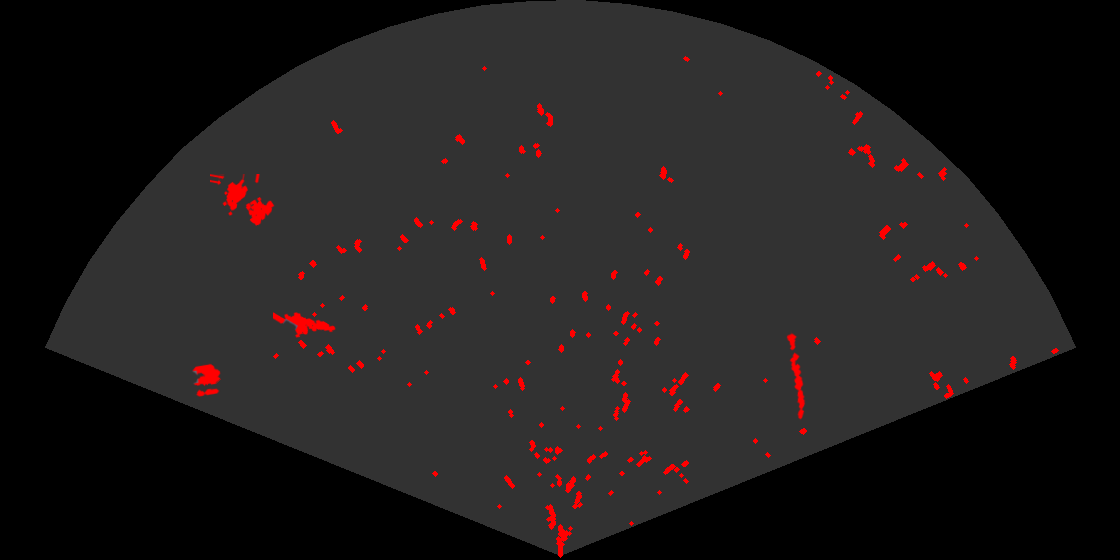ball: (191, 362, 222, 398)
cage: (210, 174, 276, 227)
chain: (785, 330, 807, 421)
frogman: (273, 311, 337, 339)
